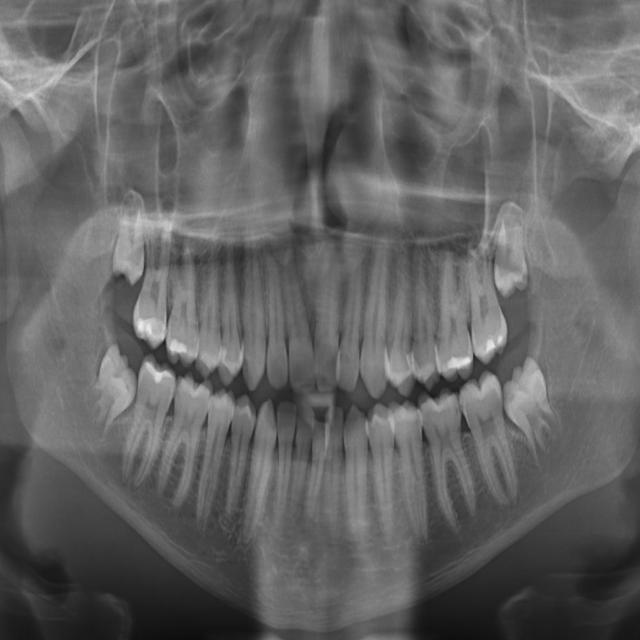CompositeResinRestoration: (136, 311, 168, 341), (144, 358, 169, 388), (484, 329, 505, 356), (445, 351, 470, 372), (166, 339, 188, 359), (216, 341, 226, 369), (405, 348, 414, 378)
DentalCaries: (452, 399, 462, 423), (461, 395, 470, 416)
